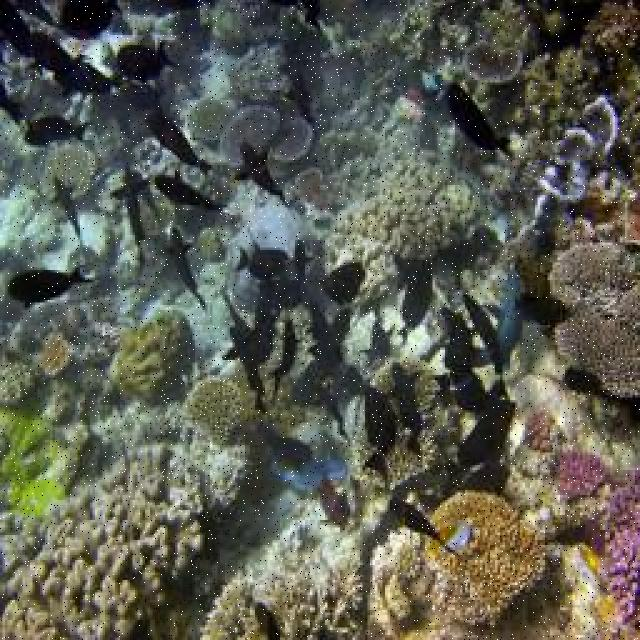aquatic plants: (0, 410, 63, 520)
fish: (111, 168, 163, 294), (441, 84, 513, 159), (7, 260, 99, 311), (156, 225, 207, 317), (392, 249, 433, 343), (389, 499, 455, 556), (363, 384, 399, 487), (236, 138, 289, 206), (155, 166, 227, 210), (50, 177, 85, 256), (115, 40, 178, 78), (25, 115, 92, 145), (234, 247, 290, 278)
reefs: (418, 492, 548, 620), (549, 242, 638, 395), (184, 376, 246, 445)
